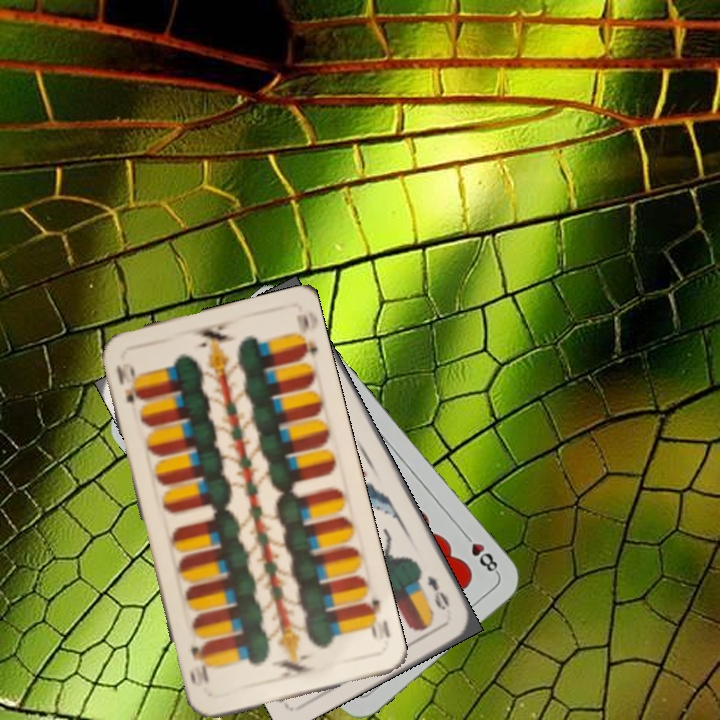E10: (112, 358, 143, 409), (359, 595, 383, 642)
EO: (423, 571, 453, 613)
H8: (458, 528, 502, 577)
